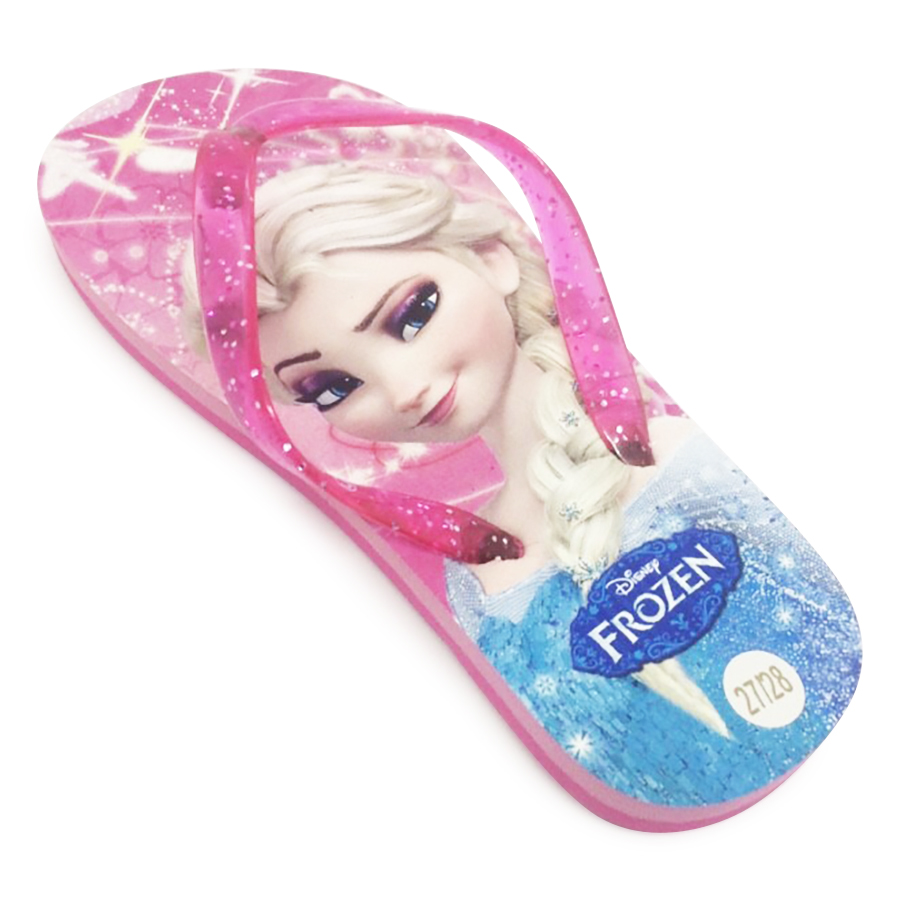Disney: (603, 544, 665, 609)
